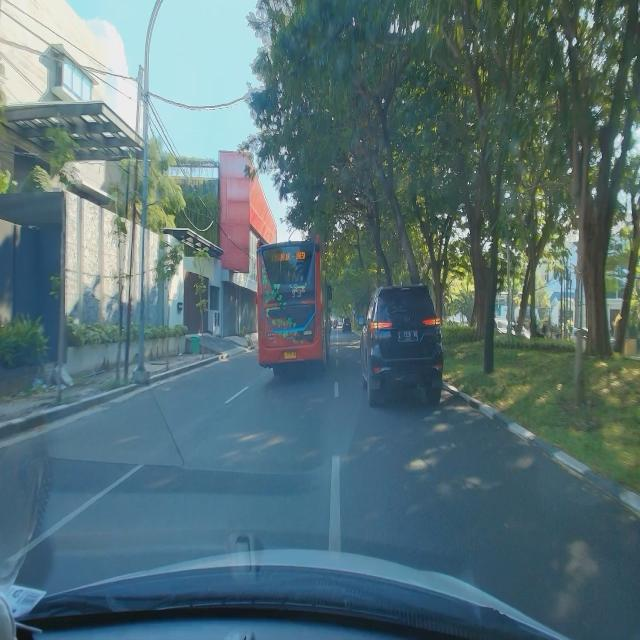bus: (254, 233, 333, 377)
car: (356, 281, 444, 407)
license-plate: (398, 330, 418, 342), (284, 351, 296, 359)
